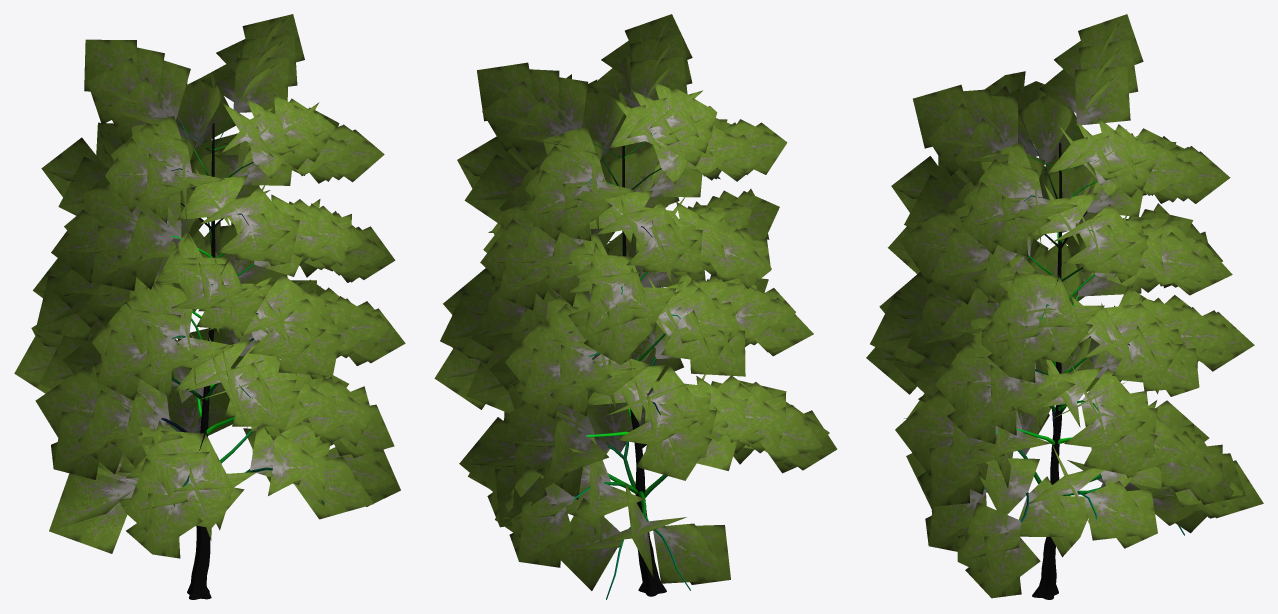
File: BeechTree04.fbx
The picture shows the model from 3 angles, left to right: view 1: azimuth 30°, elevation 25°; view 2: azimuth 150°, elevation 25°; view 3: azimuth 270°, elevation 25°; orthographic projection.
Parts seen in each view (by area): view 1: Tree_1, Tree_0; view 2: Tree_1, Tree_0; view 3: Tree_1, Tree_0.
Boxes of the visible parts, bbox=[...] form: Tree_1: bbox=[14, 14, 405, 558]; Tree_0: bbox=[134, 116, 324, 599]; Tree_1: bbox=[434, 14, 837, 590]; Tree_0: bbox=[570, 132, 690, 599]; Tree_1: bbox=[866, 14, 1263, 598]; Tree_0: bbox=[931, 125, 1184, 599].
Size of the model in its own units: 87.83 by 135 by 89.65.
